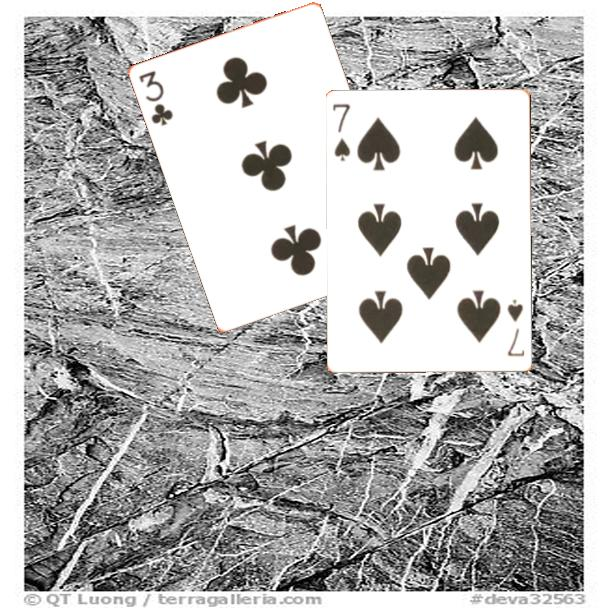c03: (136, 67, 176, 129)
s07: (504, 297, 527, 360), (330, 101, 353, 164)
